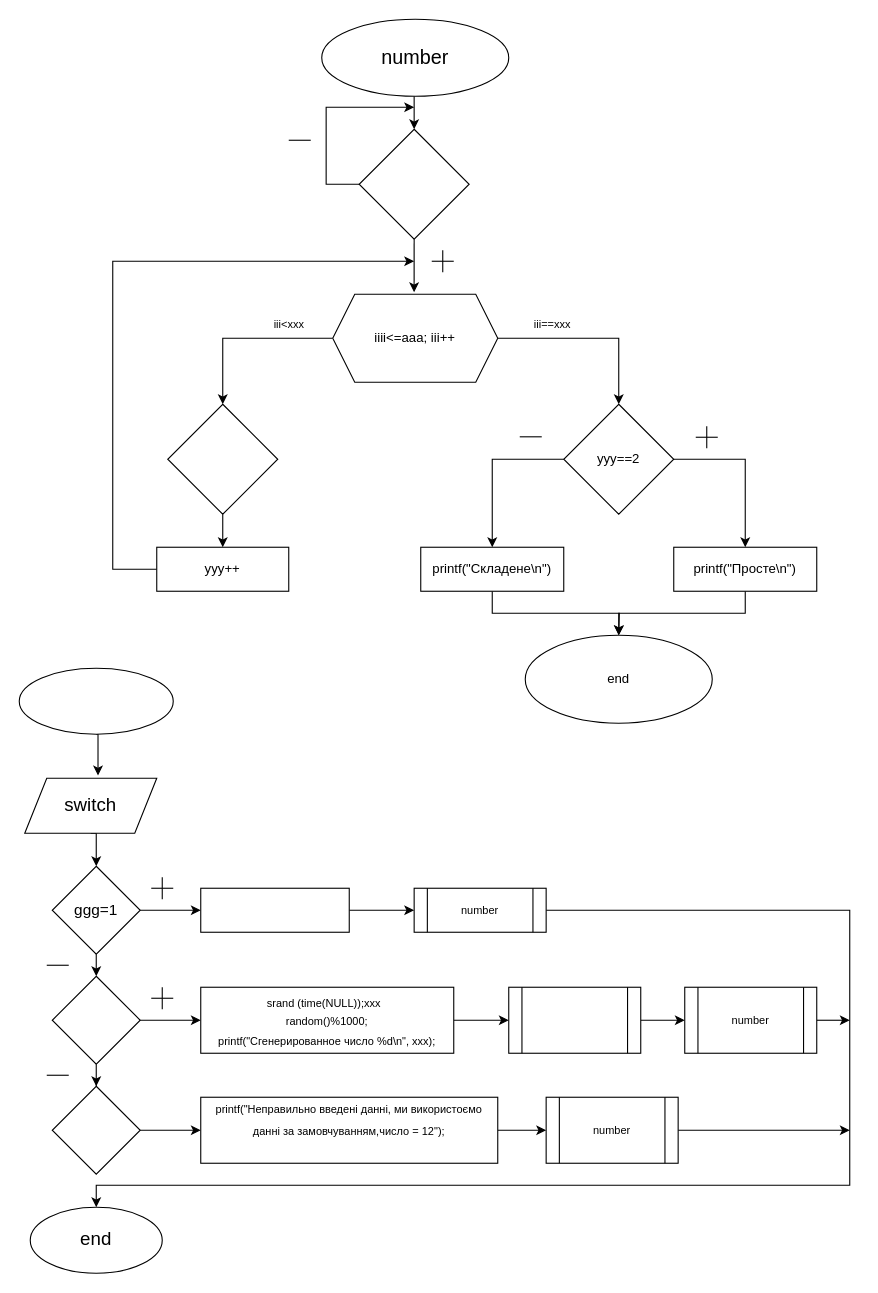
This 878x1293 diagram has some shape labels left out. Each missing label, with the box of its shape:
aaa % iiii ==0: (167, 403, 278, 514)
aaa>1: (358, 128, 469, 239)
default: (51, 1085, 140, 1174)
ggg=2: (51, 975, 140, 1064)
main: (18, 667, 173, 734)
printf("Вводить число "); scanf("%d", &xxx);: (200, 887, 349, 932)
random time strand: (508, 986, 641, 1053)
